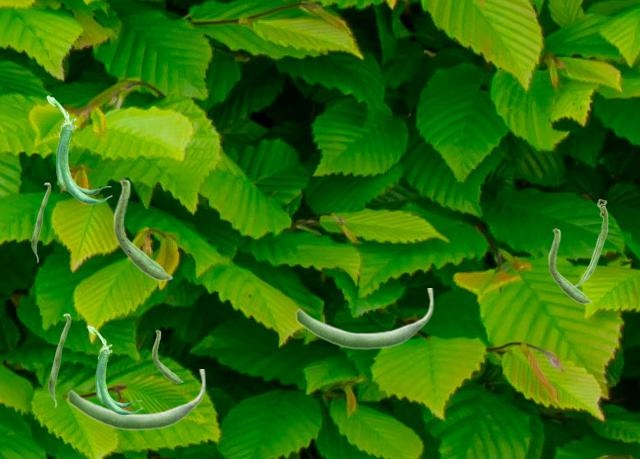french_bean: (67, 369, 205, 430), (295, 288, 433, 349), (46, 95, 111, 203), (113, 177, 172, 280), (87, 325, 141, 414), (548, 227, 591, 303), (575, 198, 607, 287), (48, 313, 70, 407), (152, 329, 182, 382), (31, 182, 50, 262)
